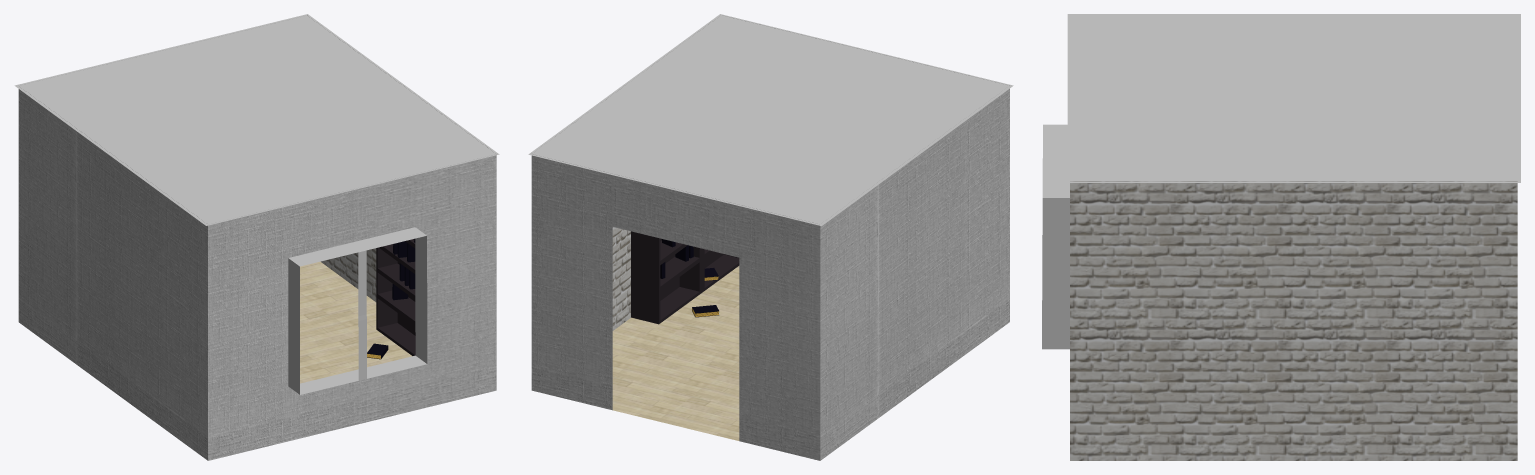
Rendered from RoomG.obj.
3 views of the same model, side by side, from view 1: azimuth 30°, elevation 25°; view 2: azimuth 150°, elevation 25°; view 3: azimuth 270°, elevation 25° (orthographic). The views are drawn at different scales.
Parts seen in each view (by area): view 1: Плоскость.035_Плоскость.010, Плоскость.001, Плоскость, Cube.016_Cube.041; view 2: Плоскость.035_Плоскость.010, Плоскость.001, Cube.016_Cube.041; view 3: Плоскость.035_Плоскость.010, Плоскость.001, Плоскость.
Part boxes in pixels (x1=…): Плоскость.035_Плоскость.010: x1=18, y1=15, x2=496, y2=460; Плоскость.001: x1=14, y1=14, x2=499, y2=225; Плоскость: x1=288, y1=227, x2=427, y2=394; Cube.016_Cube.041: x1=367, y1=238, x2=415, y2=359; Плоскость.035_Плоскость.010: x1=531, y1=18, x2=1009, y2=460; Плоскость.001: x1=528, y1=14, x2=1013, y2=226; Cube.016_Cube.041: x1=631, y1=231, x2=739, y2=324; Плоскость.035_Плоскость.010: x1=1070, y1=181, x2=1517, y2=460; Плоскость.001: x1=1067, y1=14, x2=1520, y2=182; Плоскость: x1=1042, y1=124, x2=1069, y2=349.
Bounding box in the file's own units: 6.88 × 5.3 × 8.23.
Materials: 12 (1 with a texture image).
